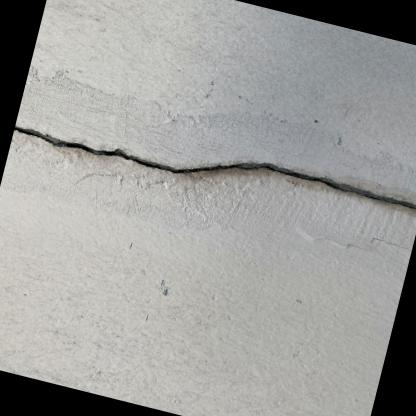crack: (13, 126, 416, 212)
